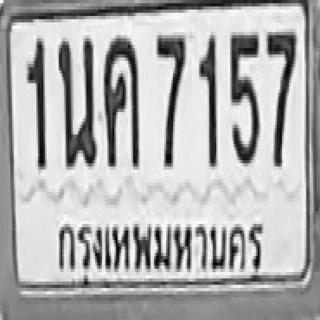A04: (103, 35, 139, 166)
A25: (57, 35, 95, 166)
N01: (25, 35, 44, 166), (197, 34, 216, 165)
N05: (230, 34, 260, 165)
N07: (266, 29, 296, 166), (156, 32, 185, 166)
P04: (49, 208, 268, 296)
